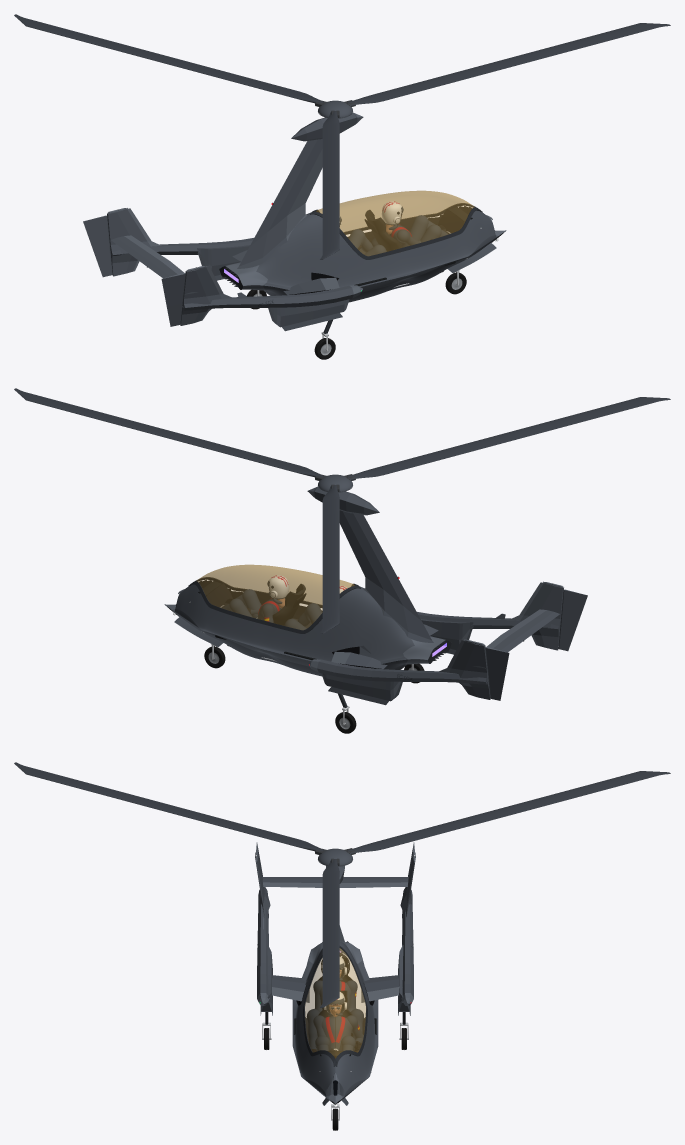
File: sigilo.glb
3 views of the same model, one above another, from view 1: azimuth 30°, elevation 25°; view 2: azimuth 150°, elevation 25°; view 3: azimuth 270°, elevation 25° (orthographic).
Parts seen in each view (by area): view 1: airframe, rotor, windscreen, rudder_L, rudder_R, pilot_front, pilot_rear; view 2: airframe, rotor, windscreen, rudder_R, rudder_L, pilot_front, pilot_rear; view 3: airframe, rotor, windscreen, pilot_rear, pilot_front.
Part boxes in pixels (x1,y1,x2,y2): airframe: (107,112,506,327); rotor: (14,14,670,259); windscreen: (316,190,474,255); rudder_L: (83,215,112,277); rudder_R: (161,273,185,326); pilot_front: (381,201,411,247); pilot_rear: (339,216,386,256); airframe: (164,486,563,701); rotor: (14,388,670,633); windscreen: (196,564,354,629); rudder_R: (558,589,587,651); rudder_L: (485,647,509,700); pilot_front: (256,575,289,620); pilot_rear: (284,585,347,630); airframe: (255,852,415,1106); rotor: (14,762,670,1007); windscreen: (305,948,365,1058); pilot_rear: (307,957,363,1052); pilot_front: (321,992,352,1050).
Bounding box in the file's own units: 7.26 × 2.88 × 7.64.
